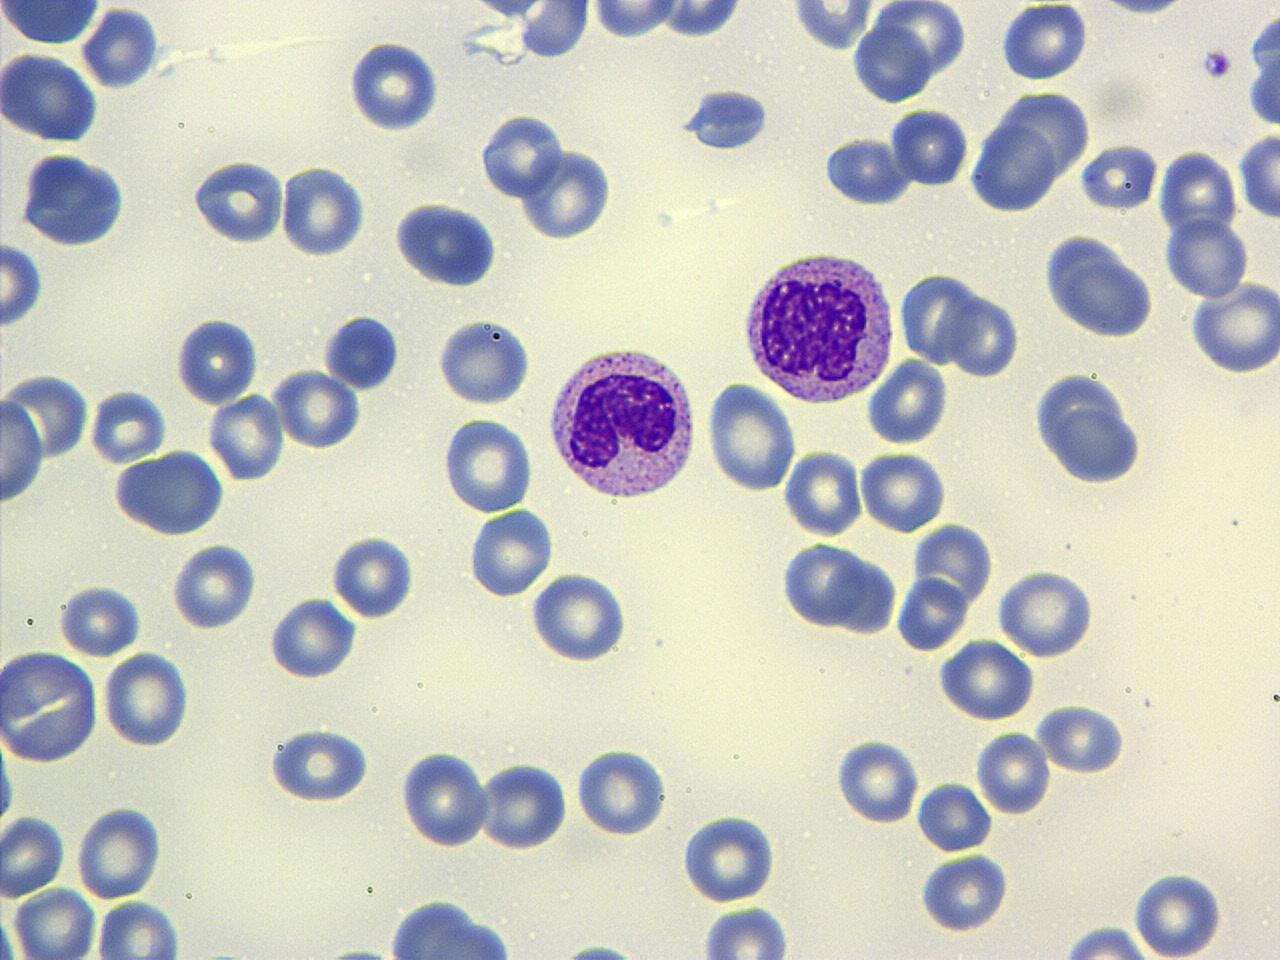Platelets: (345, 40, 444, 131), (830, 736, 920, 828), (916, 850, 1012, 934), (1000, 3, 1090, 82), (676, 86, 772, 154), (820, 135, 910, 207), (696, 904, 798, 958), (561, 940, 635, 960), (322, 942, 390, 960), (1202, 46, 1234, 82)
RBC: (1046, 245, 1158, 341), (704, 379, 798, 493), (110, 447, 225, 539), (515, 142, 615, 244), (344, 36, 444, 134), (0, 49, 101, 146), (528, 570, 631, 664), (992, 567, 1097, 659), (964, 118, 1060, 217), (440, 414, 536, 513), (398, 747, 490, 850), (432, 316, 536, 406), (574, 743, 670, 838), (678, 812, 779, 902), (266, 722, 376, 804), (102, 648, 191, 749), (1132, 867, 1226, 960), (278, 162, 369, 258), (188, 156, 286, 245), (1185, 282, 1279, 374), (464, 506, 558, 598), (74, 804, 164, 899), (938, 636, 1036, 722), (478, 760, 569, 852), (858, 444, 948, 536), (832, 735, 920, 826), (897, 268, 977, 368), (330, 531, 416, 622), (170, 541, 256, 630), (173, 314, 257, 405), (782, 537, 862, 632), (864, 356, 948, 446), (479, 111, 562, 202), (1163, 213, 1249, 300), (268, 595, 356, 680), (1157, 147, 1239, 238), (207, 389, 286, 483), (920, 850, 1008, 934), (276, 367, 362, 452), (888, 103, 972, 190), (1000, 1, 1088, 84), (782, 448, 863, 538), (80, 4, 161, 93), (974, 726, 1052, 818), (851, 21, 933, 105), (1035, 702, 1127, 776), (820, 133, 911, 206), (89, 384, 170, 464), (948, 292, 1020, 382), (57, 582, 144, 656), (10, 886, 97, 959), (1077, 140, 1159, 213), (916, 777, 992, 854), (894, 574, 968, 652), (830, 551, 898, 635), (0, 813, 66, 898), (93, 898, 183, 959), (696, 902, 794, 958), (0, 393, 46, 508), (786, 0, 877, 52), (0, 239, 46, 331), (586, 0, 680, 41), (1237, 129, 1279, 220), (1056, 924, 1160, 960)
WBC: (0, 0, 616, 458), (803, 0, 1280, 466), (542, 338, 704, 505), (737, 245, 901, 408), (1029, 367, 1151, 488), (1039, 230, 1159, 340), (15, 148, 136, 252), (0, 646, 102, 766), (111, 446, 230, 540), (0, 48, 104, 149), (390, 197, 502, 290), (435, 315, 538, 410), (528, 571, 627, 667), (380, 896, 528, 960), (966, 119, 1063, 214), (916, 850, 1012, 936), (80, 5, 163, 93), (322, 310, 402, 393), (676, 87, 772, 153), (0, 1, 106, 47), (1244, 3, 1280, 136)
